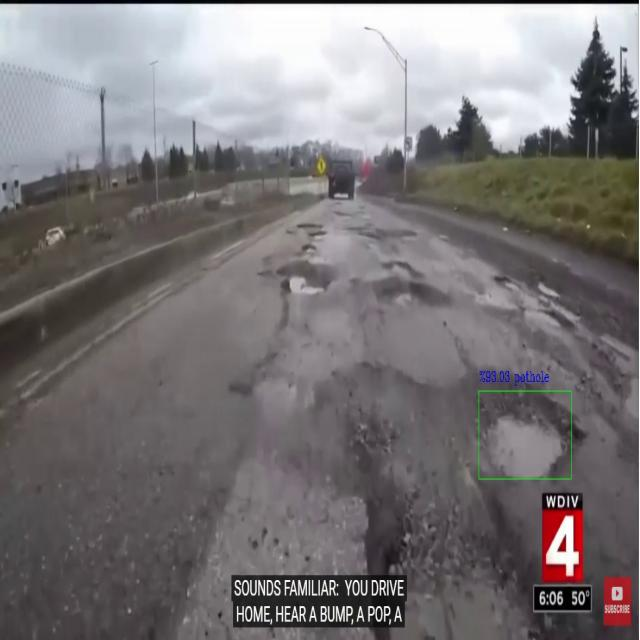pothole: (482, 395, 570, 472), (372, 275, 457, 316), (280, 258, 334, 300)
